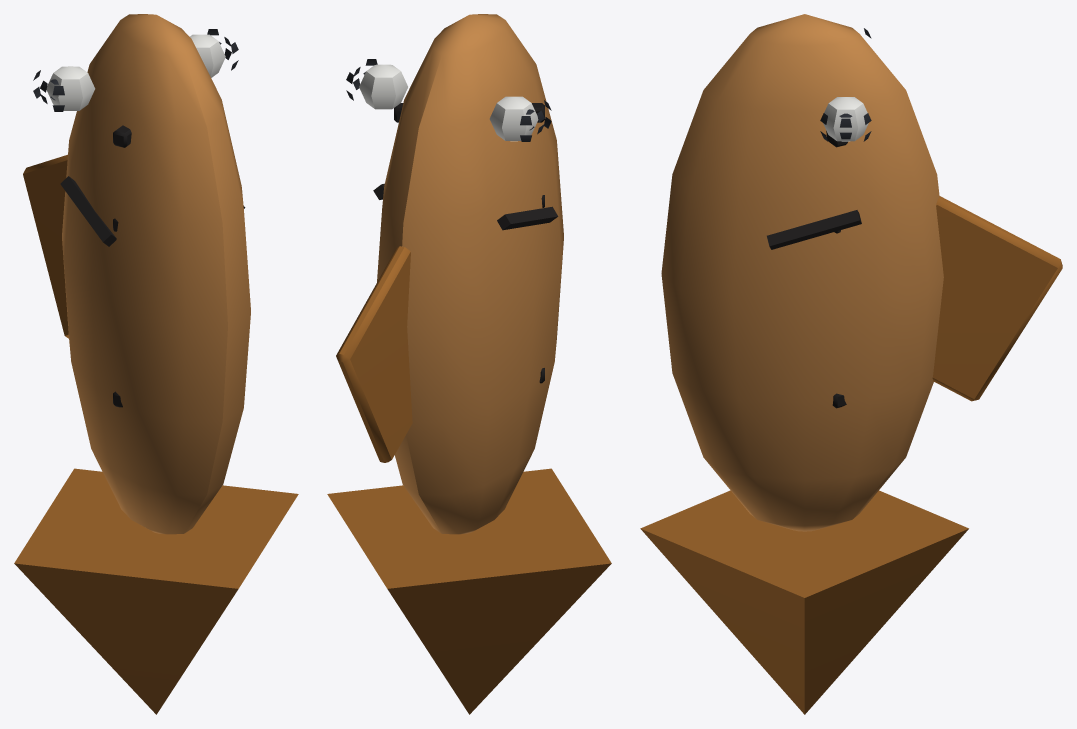
The model's file is item_fish_cooked.glb.
The picture shows the model from 3 angles, left to right: view 1: azimuth 30°, elevation 25°; view 2: azimuth 150°, elevation 25°; view 3: azimuth 270°, elevation 25°; orthographic projection.
Visible parts, largest first — view 1: item_fish_cooked, item_fish_cooked_detail; view 2: item_fish_cooked, item_fish_cooked_detail; view 3: item_fish_cooked, item_fish_cooked_detail.
Boxes of the visible parts, x1,y1,x2,y2 form: item_fish_cooked: (14,14,298,714); item_fish_cooked_detail: (60,176,245,246); item_fish_cooked: (327,14,611,714); item_fish_cooked_detail: (373,183,558,230); item_fish_cooked: (640,14,1062,714); item_fish_cooked_detail: (767,210,861,249).
Bounding box in the file's own units: 0.24 × 0.564 × 0.3081.
